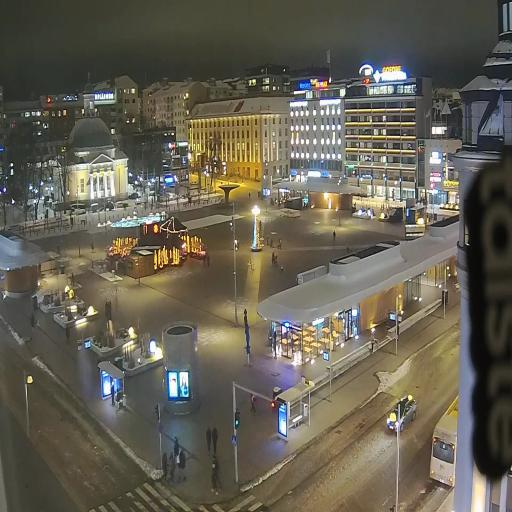Bus: (430, 396, 458, 487)
